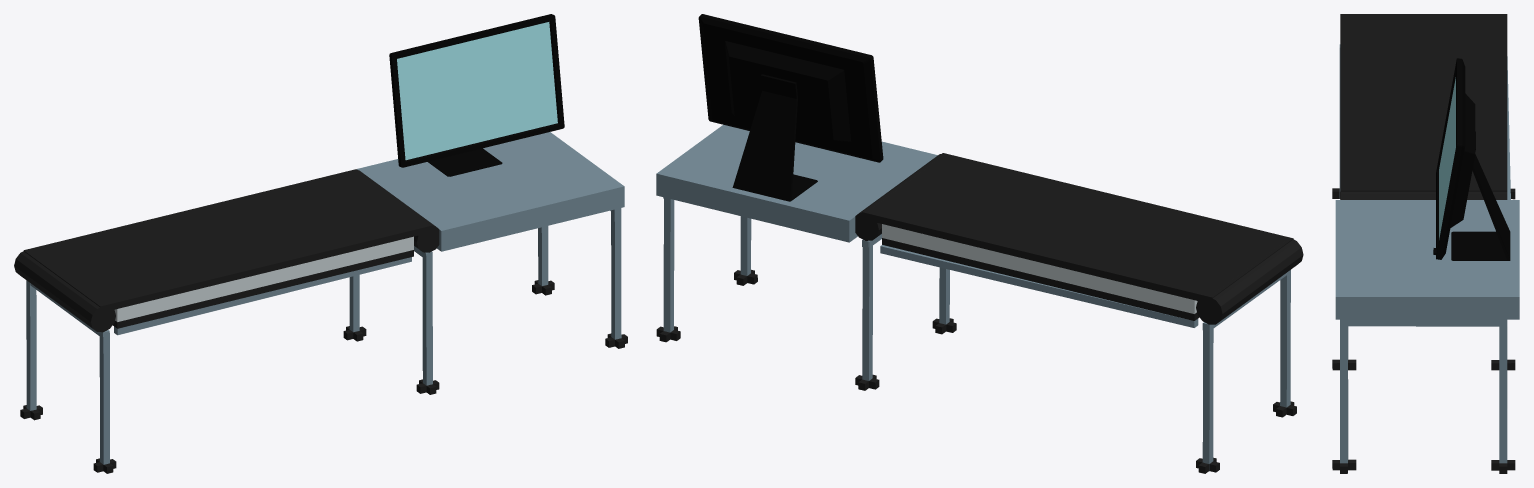
Rendered from checkount_counter.glb.
3 renders of one model, left to right at view 1: azimuth 30°, elevation 25°; view 2: azimuth 150°, elevation 25°; view 3: azimuth 270°, elevation 25°, orthographic. The views are drawn at different scales.
Parts seen in each view (by area): view 1: group37982561, Monitor; view 2: group37982561, Monitor; view 3: group37982561, Monitor.
Boxes of the visible parts, x1,y1,x2,y2 form: group37982561: (14,132,627,473); Monitor: (389,14,564,176); group37982561: (656,124,1303,473); Monitor: (698,14,883,201); group37982561: (1332,14,1519,473); Monitor: (1433,58,1510,260).
Bounding box in the file's own units: 0.8479 × 0.4437 × 0.2358.
6 materials, 1 textured.
